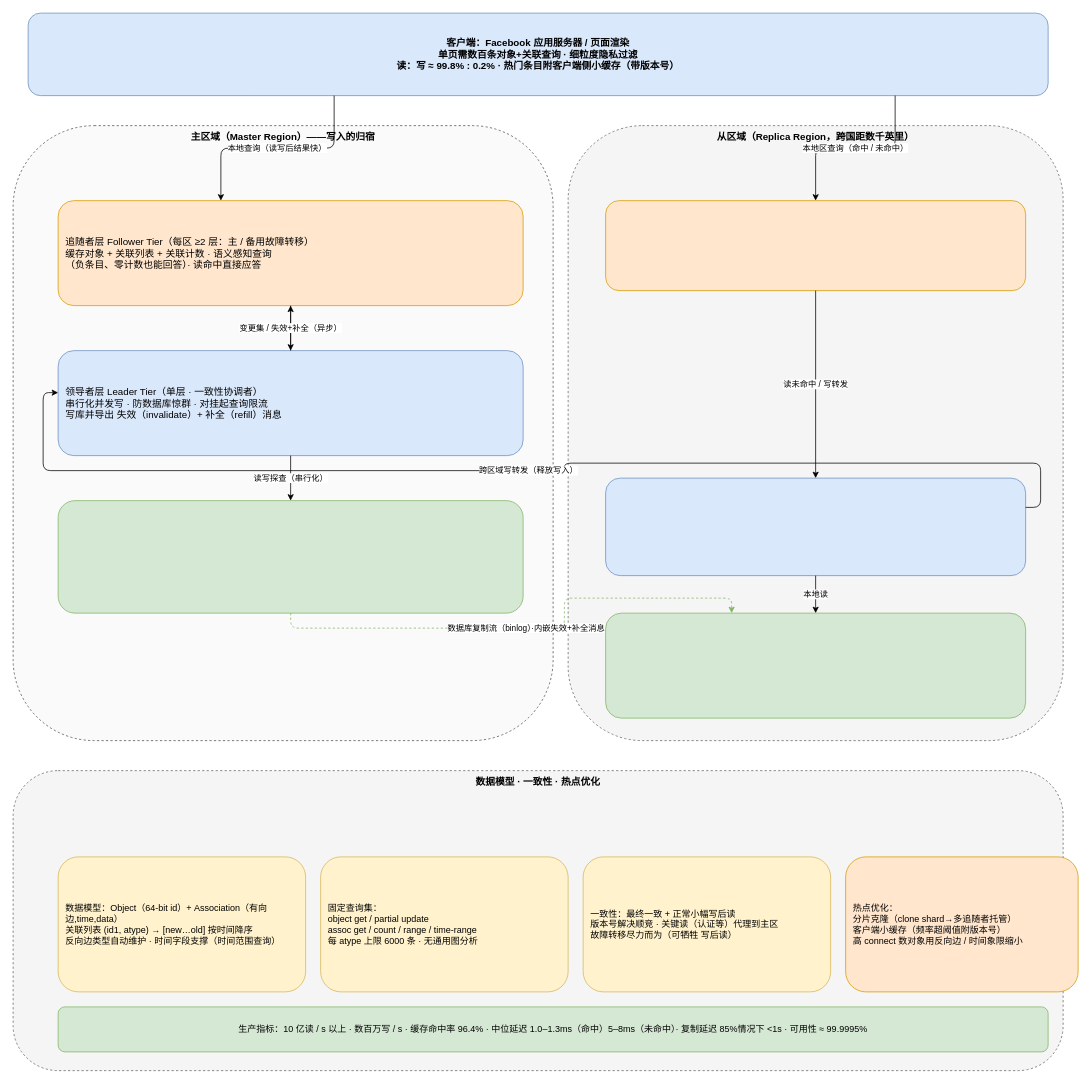
This 1091x1084 diagram has some shape labels left out. The centre of each missing label's shape, as x and y in pixels:
MySQL 主库（存储层 · 一致的真值来源） 分片→逻辑库：对象表 / 关联表 / 关联计数表 原子写事务 · 反向关联写跨两分片（异步修复悬挂关联）: point (290, 556)
MySQL 从库（完整图谱的完整副本） 异步复制 · 故障时自动提升为新的主库 从库宕机：主库 binlog tailer 跨区投递消息: point (815, 665)
区领导者层（本地协调者） 读未命中查询本地从库 · 转发写入发往主区领导者 按复制流投递失效 / 补全消息: point (815, 526)
追随者层 Follower Tier 面向本地客户端 · 读命中本地应答 未命中 / 写请求转发本区领导者: point (815, 245)
